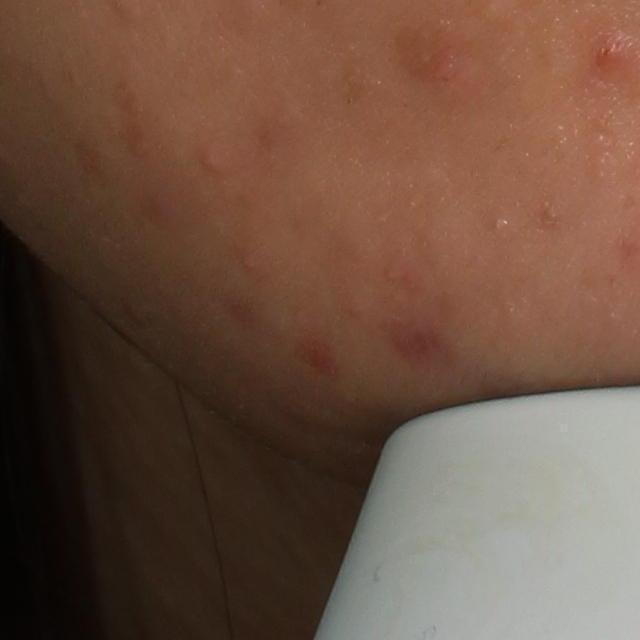papule: (413, 47, 468, 88), (585, 33, 628, 78), (201, 150, 223, 173)
